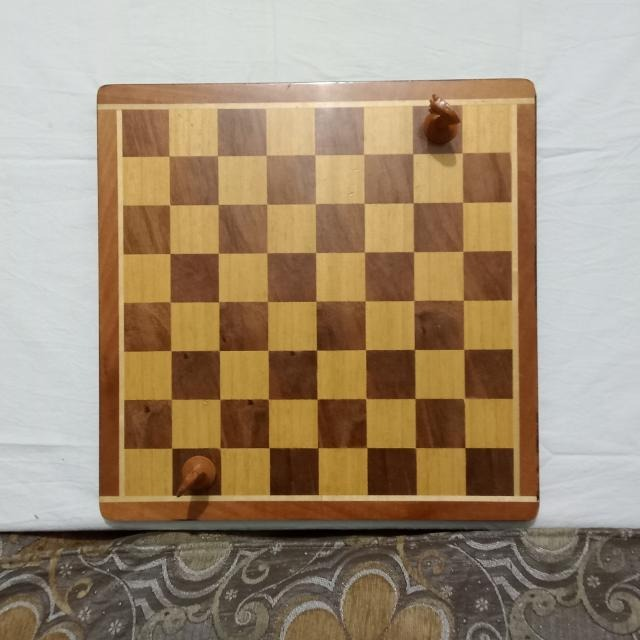white-knight: (422, 92, 462, 147), (174, 453, 218, 497)
